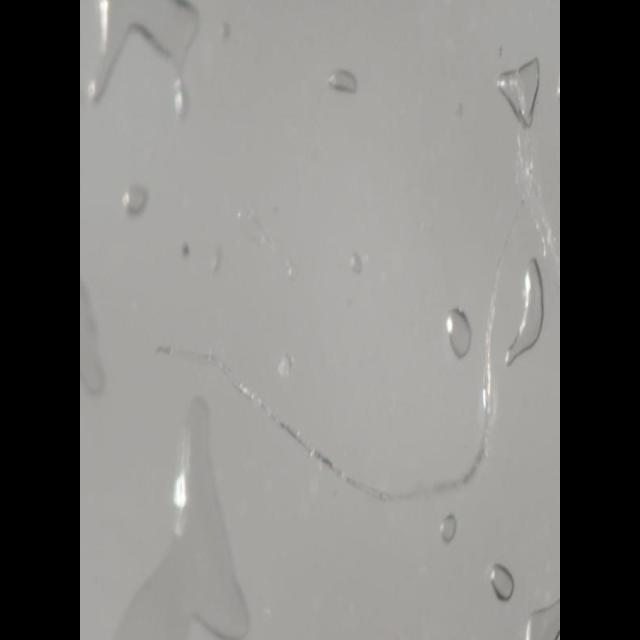Fibre: (152, 189, 540, 515)
